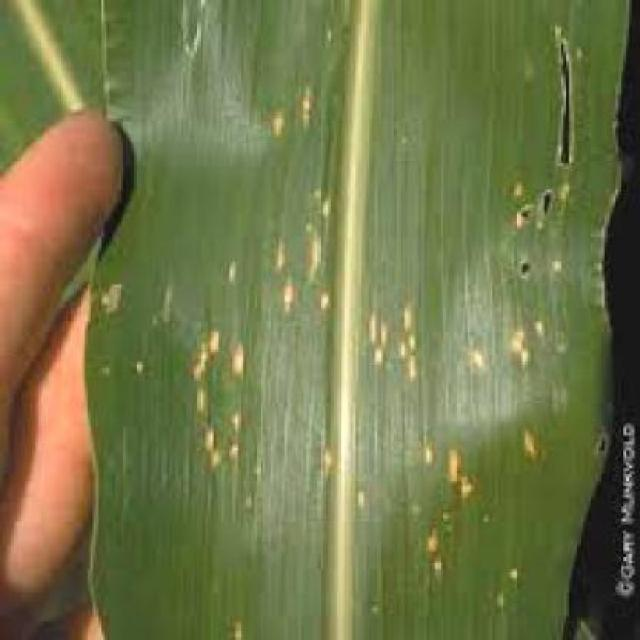Corn_Grey_Leaf_Spot: (126, 3, 604, 640)
